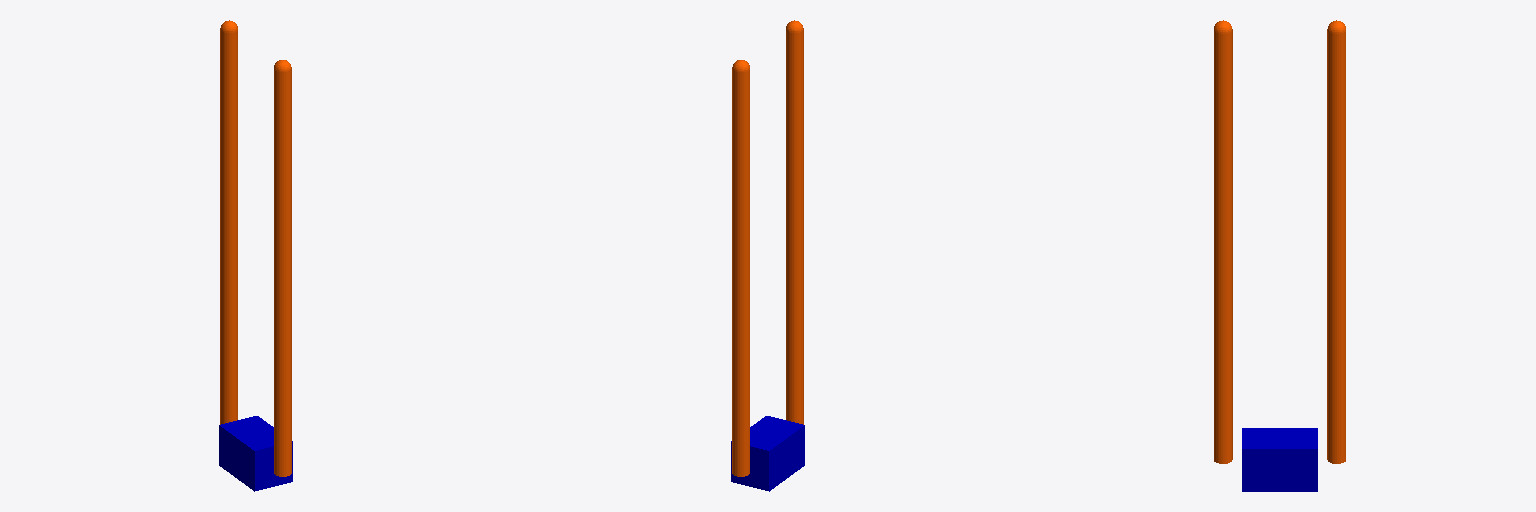
URDF robot description (1dof):
<?xml version="1.0" encoding="utf-8"?>
<robot name="1dof">
  <material name="black">
    <color rgba="0.0 0.0 0.0 1.0"/>
  </material>
  <material name="blue">
    <color rgba="0.0 0.0 0.8 1.0"/>
  </material>
  <material name="green">
    <color rgba="0.0 0.8 0.0 1.0"/>
  </material>
  <material name="grey">
    <color rgba="0.2 0.2 0.2 1.0"/>
  </material>
  <material name="silver">
    <color rgba="0.913725490196 0.913725490196 0.847058823529 1.0"/>
  </material>
  <material name="orange">
    <color rgba="1.0 0.423529411765 0.0392156862745 1.0"/>
  </material>
  <material name="brown">
    <color rgba="0.870588235294 0.811764705882 0.764705882353 1.0"/>
  </material>
  <material name="red">
    <color rgba="0.8 0.0 0.0 1.0"/>
  </material>
  <material name="white">
    <color rgba="1.0 1.0 1.0 1.0"/>
  </material>

  <link name="world"/>

  <!-- <link name="base"/> -->

  <link name="trunk">
	 <inertial>
     <origin xyz="0 0 0" rpy="0 0 0"/> 
     <mass value="5"/>
     <inertia ixx="0.005"  ixy="0"  ixz="0" iyy="0.005" iyz="0" izz="0.005" />
    </inertial>
    <visual>
     <origin xyz="0 0 0" rpy="0 0 0" />
     <geometry>
       <box size="0.050 0.080 0.050"/>
     </geometry>
     <material name="blue"/>
    </visual>
    <collision>
     <origin xyz="0 0 0" rpy="0 0 0"/>
     <geometry>
       <box size="0.050 0.080 0.050"/>
     </geometry>
    </collision> 
  </link>


  <link name="link1">
	  <inertial>
     <origin xyz="0 0 0.125" rpy="0 0 0"/>
     <mass value="1"/>
     <inertia ixx="0.003"  ixy="0"  ixz="0" iyy="0.003" iyz="0" izz="0.003" />
    </inertial>
	  <visual>
     <origin xyz="0 0 0.125" rpy="0 0 0" />
     <geometry>
       <cylinder radius="0.01" length="0.250"/>
     </geometry>
     <material name="orange"/>
    </visual>
	  <collision>
     <origin xyz="0 0 0.125" rpy="0 0 0"/>
     <geometry>
       <cylinder radius="0.01" length="0.250"/>
     </geometry>
    </collision>
  </link>

  
  <link name="link2">
	  <inertial>
     <origin xyz="0 0 0.125" rpy="0 0 0"/>
     <mass value="1"/>
     <inertia ixx="0.003"  ixy="0"  ixz="0" iyy="0.003" iyz="0" izz="0.003" />
    </inertial>
	  <visual>
     <origin xyz="0 0 0.125" rpy="0 0 0" />
     <geometry>
       <cylinder radius="0.01" length="0.250"/>
     </geometry>
     <material name="orange"/>
    </visual>
	  <collision>
     <origin xyz="0 0 0.125" rpy="0 0 0"/>
     <geometry>
       <cylinder radius="0.01" length="0.250"/>
     </geometry>
    </collision>
  </link>

  <link name="link3">
	  <inertial>
     <origin xyz="0 0 0.005" rpy="0 0 0"/>
     <mass value="1"/>
     <inertia ixx="1e-6"  ixy="0"  ixz="0" iyy="1e-6" iyz="0" izz="1e-6" />
    </inertial>
	  <visual>
     <origin xyz="0 0 0" rpy="0 0 0" />
     <geometry>
       <sphere radius="0.01"/>
     </geometry>
     <material name="orange"/>
    </visual>
	  <collision>
     <origin xyz="0 0 0" rpy="0 0 0"/>
     <geometry>
       <sphere radius="0.01"/>
     </geometry>
    </collision>
  </link>

   <link name="link4">
	  <inertial>
     <origin xyz="0 0 0.125" rpy="0 0 0"/>
     <mass value="1"/>
     <inertia ixx="0.003"  ixy="0"  ixz="0" iyy="0.003" iyz="0" izz="0.003" />
    </inertial>
	  <visual>
     <origin xyz="0 0 0.125" rpy="0 0 0" />
     <geometry>
       <cylinder radius="0.01" length="0.250"/>
     </geometry>
     <material name="orange"/>
    </visual>
	  <collision>
     <origin xyz="0 0 0.125" rpy="0 0 0"/>
     <geometry>
       <cylinder radius="0.01" length="0.250"/>
     </geometry>
    </collision>
  </link>

  <link name="link5">
	  <inertial>
     <origin xyz="0 0 0.125" rpy="0 0 0"/>
     <mass value="1"/>
     <inertia ixx="0.003"  ixy="0"  ixz="0" iyy="0.003" iyz="0" izz="0.003" />
    </inertial>
	  <visual>
     <origin xyz="0 0 0.125" rpy="0 0 0" />
     <geometry>
       <cylinder radius="0.01" length="0.250"/>
     </geometry>
     <material name="orange"/>
    </visual>
	  <collision>
     <origin xyz="0 0 0.125" rpy="0 0 0"/>
     <geometry>
       <cylinder radius="0.01" length="0.250"/>
     </geometry>
    </collision>
  </link>

  <link name="link6">
	  <inertial>
     <origin xyz="0 0 0.005" rpy="0 0 0"/>
     <mass value="1"/>
     <inertia ixx="1e-6"  ixy="0"  ixz="0" iyy="1e-6" iyz="0" izz="1e-6" />
    </inertial>
	  <visual>
     <origin xyz="0 0 0" rpy="0 0 0" />
     <geometry>
       <sphere radius="0.01"/>
     </geometry>
     <material name="orange"/>
    </visual>
	  <collision>
     <origin xyz="0 0 0" rpy="0 0 0"/>
     <geometry>
       <sphere radius="0.01"/>
     </geometry>
    </collision>
  </link>
  

  <!-- Joints -->
  <joint name="Joint0" type="fixed">
    <parent link="world"/>
    <child link="trunk"/>
    <origin xyz="0 0 0.15" rpy="0 0 0" />
  </joint>

  <joint name="Joint1" type="revolute">
    <parent link="trunk"/>
    <child link="link1"/>
    <axis xyz="0 1 0"/>
    <origin xyz="0 0.06 0.0" rpy="0 0 0" />
  </joint>

  <joint name="Joint2" type="revolute">
    <parent link="link1"/>
    <child link="link2"/>
    <axis xyz="1 0 0"/>
    <origin xyz="0 0 0.250" rpy="0 0 0" />
  </joint>

  <joint name="Joint3" type="fixed">
    <parent link="link2"/>
    <child link="link3"/>
    <origin xyz="0 0 0.250" rpy="0 0 0" />
  </joint>

  <joint name="Joint4" type="revolute">
    <parent link="trunk"/>
    <child link="link4"/>
    <axis xyz="0 1 0"/>
    <origin xyz="0 -0.06 0" rpy="0 0 0" />
  </joint>

  <joint name="Joint5" type="revolute">
    <parent link="link4"/>
    <child link="link5"/>
    <axis xyz="1 0 0"/>
    <origin xyz="0 0 0.250" rpy="0 0 0" />
  </joint>

  <joint name="Joint6" type="fixed">
    <parent link="link5"/>
    <child link="link6"/>
    <origin xyz="0 0 0.250" rpy="0 0 0" />
  </joint>
 
</robot>

--- What the picture shows (computed from the rendered views, not written in the file) ---
Views: 3 orthographic renders of the robot side by side, from view 1: azimuth 30°, elevation 25°; view 2: azimuth 150°, elevation 25°; view 3: azimuth 270°, elevation 25°.
Model 1dof with 8 links and 7 joints (4 revolute, 3 fixed), rooted at world, posed every joint at zero.
Visible links, largest first — view 1: link5, link4, link2, trunk, link1; view 2: link2, link1, link5, trunk, link4; view 3: trunk, link1, link4, link2, link5.
Boxes of the visible links, x1=… form: link5: x1=274, y1=69, x2=291, y2=274; link4: x1=274, y1=272, x2=291, y2=476; link2: x1=220, y1=30, x2=237, y2=234; trunk: x1=219, y1=416, x2=292, y2=491; link1: x1=220, y1=232, x2=237, y2=424; link2: x1=732, y1=69, x2=749, y2=274; link1: x1=732, y1=272, x2=749, y2=476; link5: x1=786, y1=30, x2=803, y2=234; trunk: x1=731, y1=416, x2=804, y2=491; link4: x1=786, y1=232, x2=803, y2=424; trunk: x1=1242, y1=428, x2=1317, y2=491; link1: x1=1327, y1=245, x2=1345, y2=463; link4: x1=1214, y1=245, x2=1232, y2=463; link2: x1=1327, y1=30, x2=1345, y2=248; link5: x1=1214, y1=30, x2=1232, y2=248.
Size in the robot's own frame: 0.05 by 0.14 by 0.535 metres.
Geometry: primitives only (box / cylinder / sphere), no mesh files.